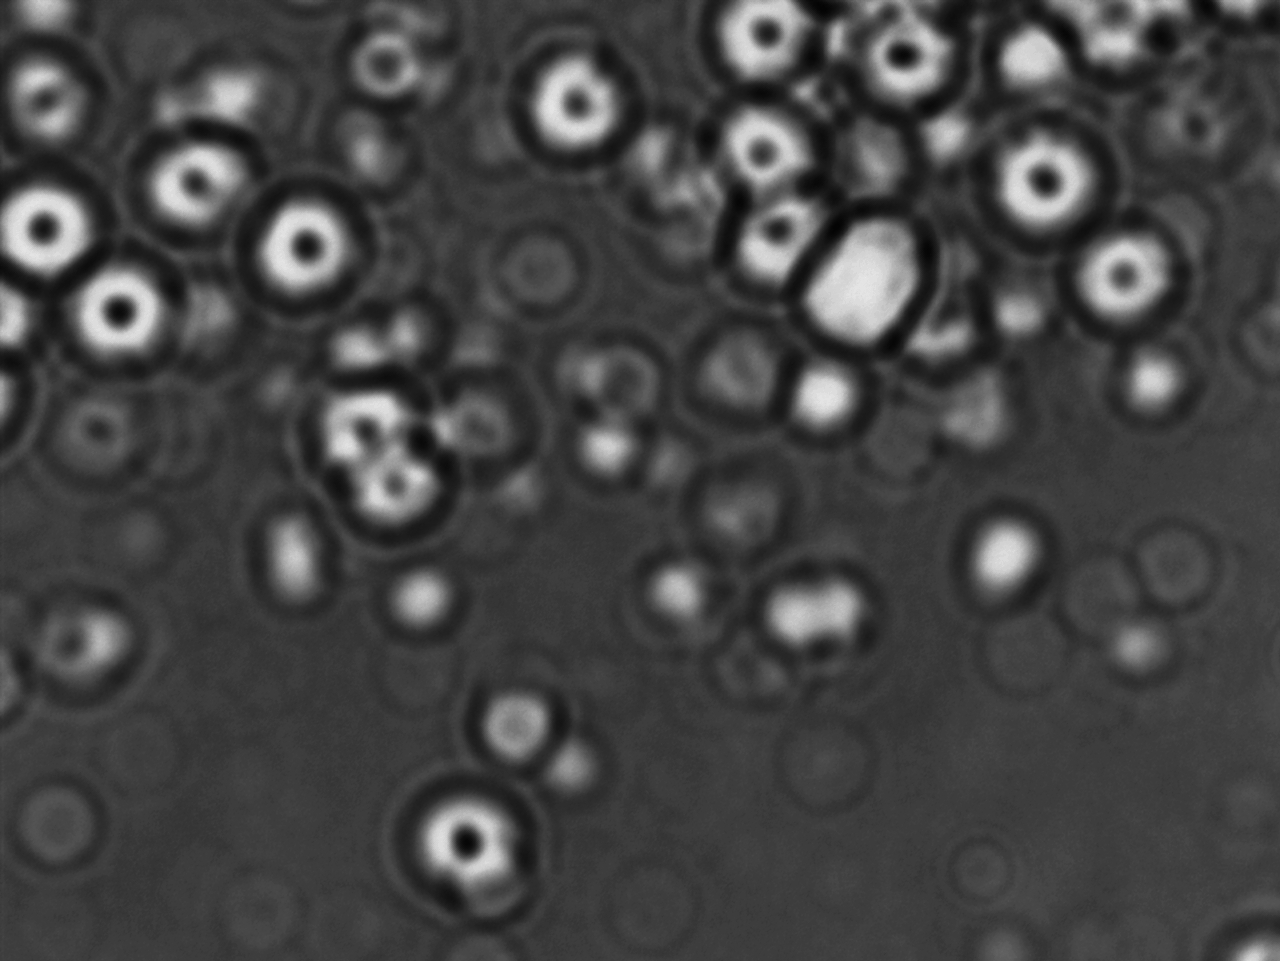depth:32: (388, 760, 548, 909), (133, 121, 260, 246), (241, 186, 372, 307), (989, 116, 1113, 243), (508, 40, 638, 161), (60, 248, 183, 375), (1061, 217, 1188, 336), (710, 88, 827, 200), (855, 12, 963, 119)
